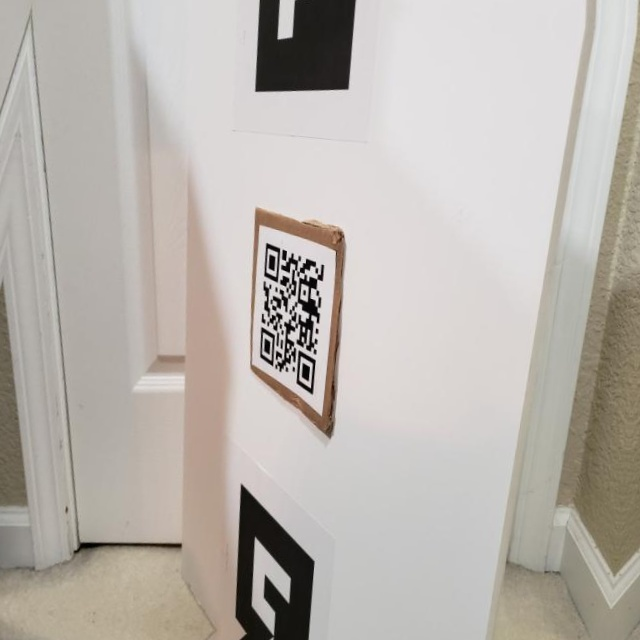qr-code: (242, 232, 342, 404)
